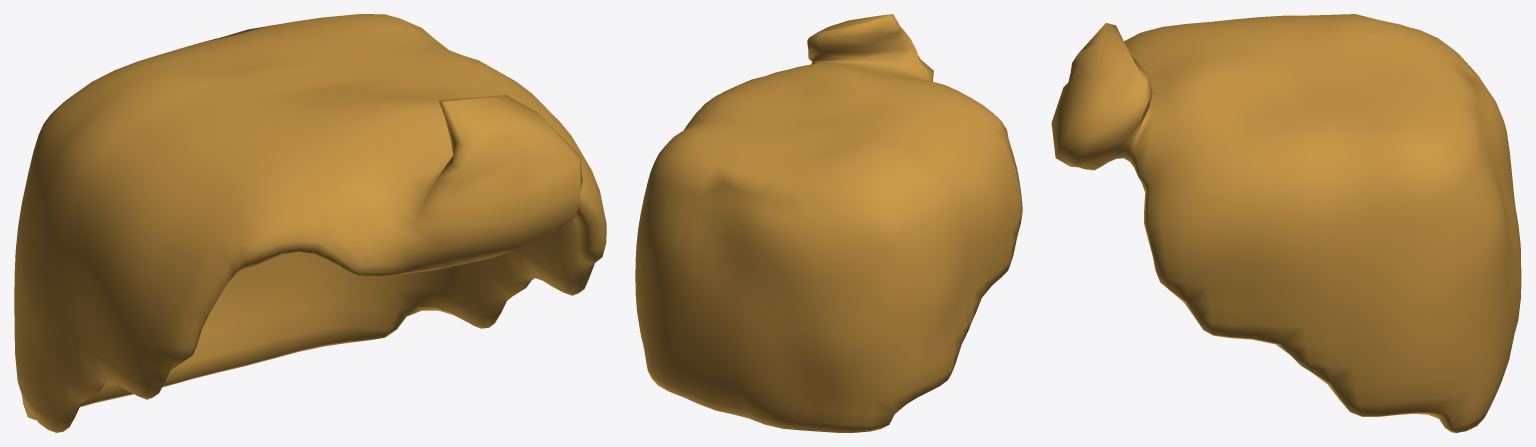
File: HairType5.fbx
The picture shows the model from 3 angles, left to right: view 1: azimuth 30°, elevation 25°; view 2: azimuth 150°, elevation 25°; view 3: azimuth 270°, elevation 25°; orthographic projection. The views are drawn at different scales.
Visible parts, largest first — view 1: HairType5; view 2: HairType5; view 3: HairType5.
Boxes of the visible parts, <box> form: HairType5: <box>14,14,606,432</box>; HairType5: <box>635,14,1022,432</box>; HairType5: <box>1051,14,1521,432</box>.
Size of the model in its own units: 225 by 208 by 245.
